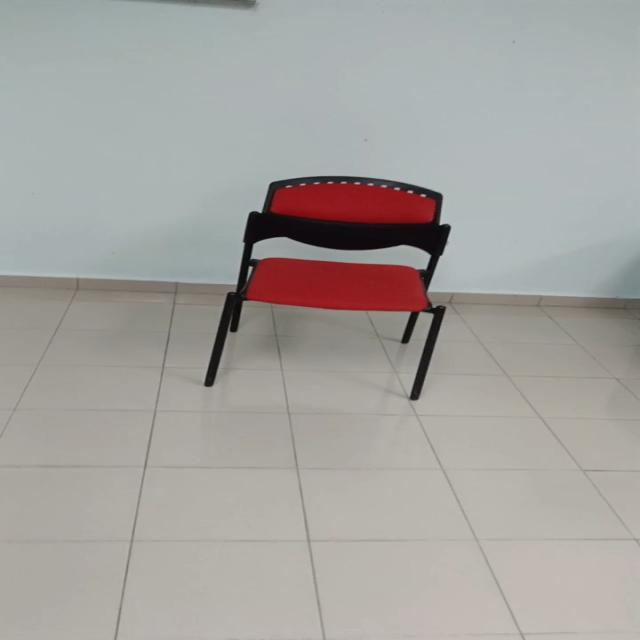sandalye: (204, 177, 450, 400)
